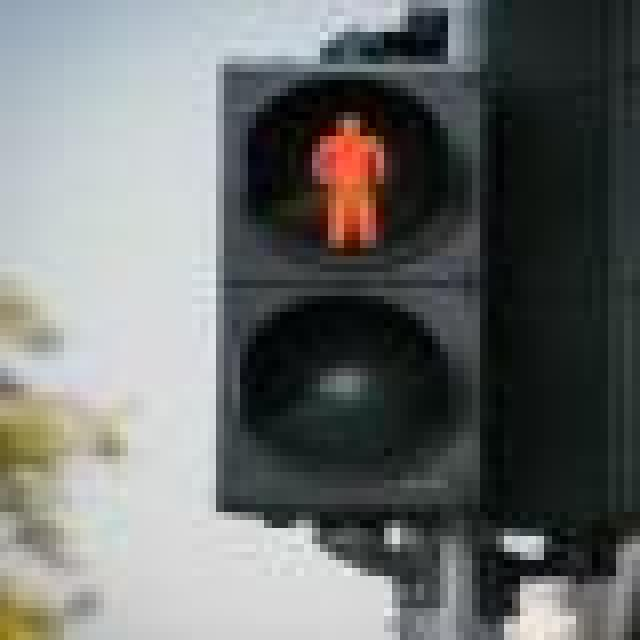redlight: (200, 64, 480, 488)
